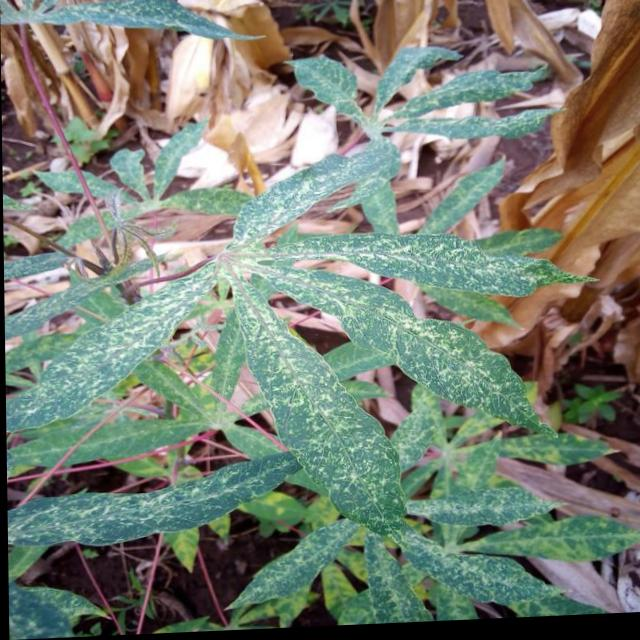Mosaico: (141, 205, 488, 452), (260, 470, 640, 640), (297, 37, 493, 136)
